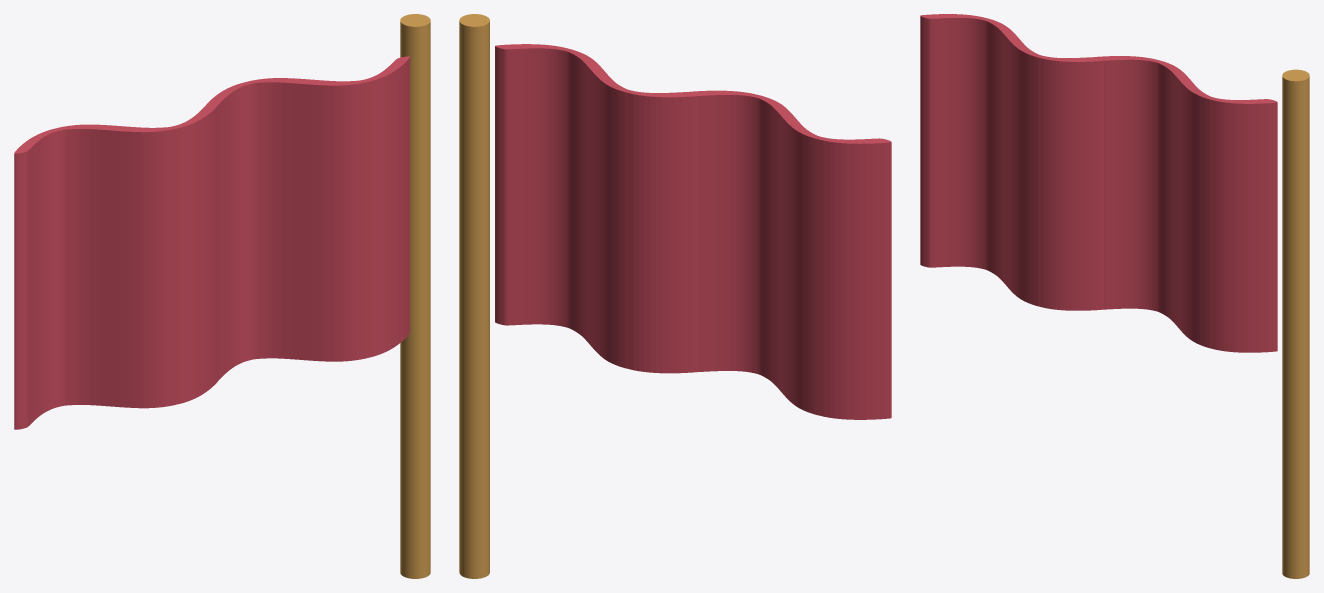
Rendered from redFlag.glb.
3 views of the same model, side by side, from view 1: azimuth 30°, elevation 25°; view 2: azimuth 150°, elevation 25°; view 3: azimuth 330°, elevation 25° (orthographic). The views are drawn at different scales.
Visible parts, largest first — view 1: Mesh_Mesh_head_geo.001_lambert2SG.001; view 2: Mesh_Mesh_head_geo.001_lambert2SG.001; view 3: Mesh_Mesh_head_geo.001_lambert2SG.001.
Part boxes in pixels (x1,y1,x2,y2): Mesh_Mesh_head_geo.001_lambert2SG.001: (14, 14, 430, 578); Mesh_Mesh_head_geo.001_lambert2SG.001: (459, 14, 891, 578); Mesh_Mesh_head_geo.001_lambert2SG.001: (920, 14, 1309, 578).
Size of the model in its own units: 0.016 by 0.02 by 0.002.
